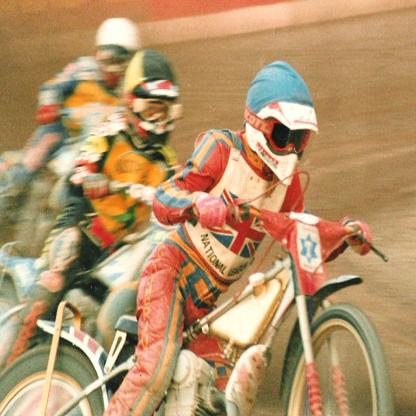Helmet: (242, 59, 323, 183), (118, 56, 177, 144), (88, 16, 138, 80)
